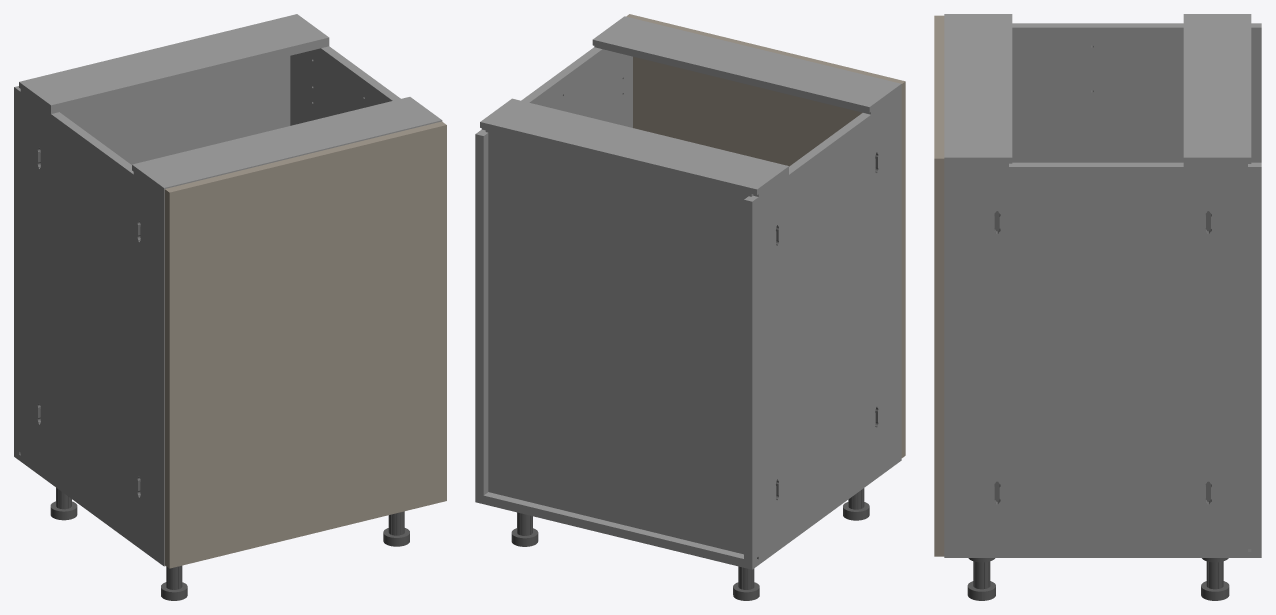
The model's file is BaseUnit_1D_600-1770671787115.glb.
The picture shows the model from 3 angles, left to right: view 1: azimuth 30°, elevation 25°; view 2: azimuth 150°, elevation 25°; view 3: azimuth 270°, elevation 25°; orthographic projection. The views are drawn at different scales.
Parts seen in each view (by area): view 1: Door, SidePanel_L, BackPanel, TopRib_B, TopRib_F, SidePanel_L001, BasePanel, Leg_FL, Leg_FR, Leg_BL; view 2: BackPanel, SidePanel_L, Door, TopRib_F, TopRib_B, SidePanel_L001, BasePanel, Leg_BL, Leg_BR, Leg_FL; view 3: SidePanel_L001, SidePanel_L, TopRib_F, TopRib_B, Door, BasePanel, Leg_BR, Leg_FR.
Part boxes in pixels (<box>): Door: <box>164,121,446,568</box>; SidePanel_L: <box>14,86,164,557</box>; BackPanel: <box>60,56,290,164</box>; TopRib_B: <box>19,14,329,113</box>; TopRib_F: <box>132,97,442,196</box>; SidePanel_L001: <box>290,46,400,125</box>; BasePanel: <box>14,448,165,566</box>; Leg_FL: <box>161,565,187,600</box>; Leg_FR: <box>383,511,409,546</box>; Leg_BL: <box>50,487,77,520</box>; BackPanel: <box>485,129,753,554</box>; SidePanel_L: <box>744,92,901,560</box>; Door: <box>626,14,905,457</box>; TopRib_F: <box>592,16,901,114</box>; TopRib_B: <box>480,98,788,196</box>; SidePanel_L001: <box>475,47,632,495</box>; BasePanel: <box>475,452,901,569</box>; Leg_BL: <box>733,566,759,600</box>; Leg_BR: <box>511,512,538,546</box>; Leg_FL: <box>843,488,869,520</box>; SidePanel_L001: <box>944,162,1261,548</box>; SidePanel_L: <box>1012,23,1261,162</box>; TopRib_F: <box>944,14,1012,166</box>; TopRib_B: <box>1183,14,1251,166</box>; Door: <box>934,15,944,556</box>; BasePanel: <box>944,548,1261,562</box>; Leg_BR: <box>1201,561,1229,600</box>; Leg_FR: <box>967,561,995,600</box>.
Bounding box in the file's own units: 0.6 × 0.88 × 0.5779.
